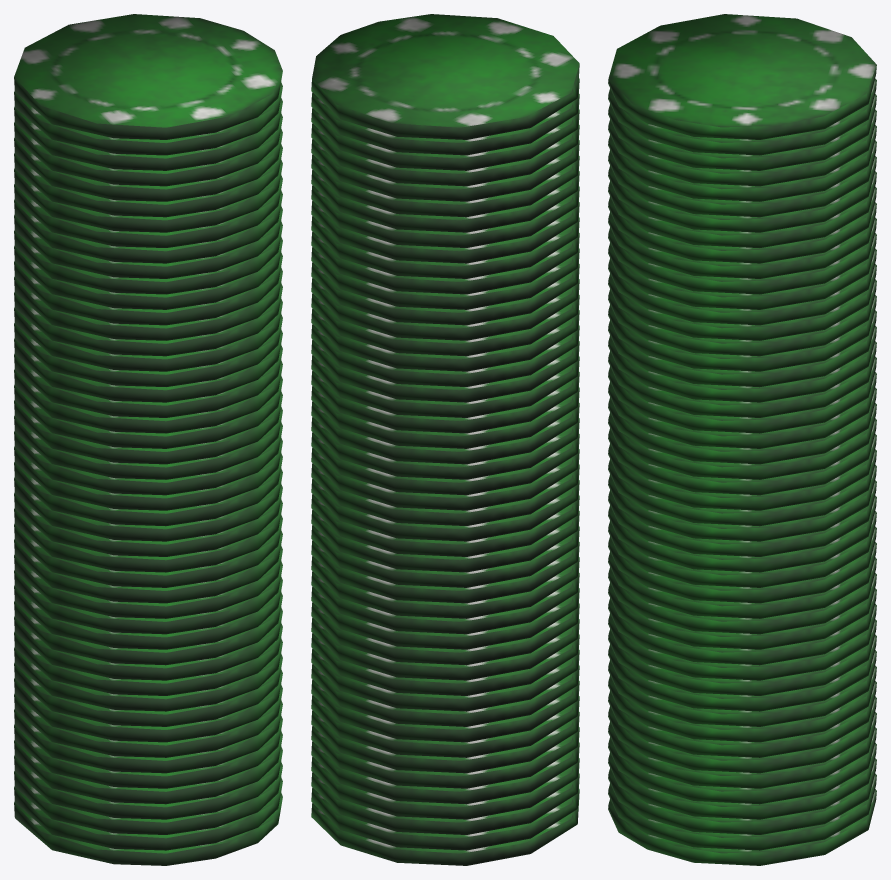
File: Coin.fbx_Collection_PokerChip_Green.fbx
3 views of the same model, side by side, from view 1: azimuth 30°, elevation 25°; view 2: azimuth 150°, elevation 25°; view 3: azimuth 270°, elevation 25° (orthographic).
Visible parts, largest first — view 1: PokerChip_Green; view 2: PokerChip_Green; view 3: PokerChip_Green.
Boxes of the visible parts, box(x1,y1,x2,y2) form: PokerChip_Green: box(14, 14, 282, 865); PokerChip_Green: box(311, 14, 579, 865); PokerChip_Green: box(608, 14, 876, 865).
Size of the model in its own units: 15.75 by 47.82 by 15.78.
